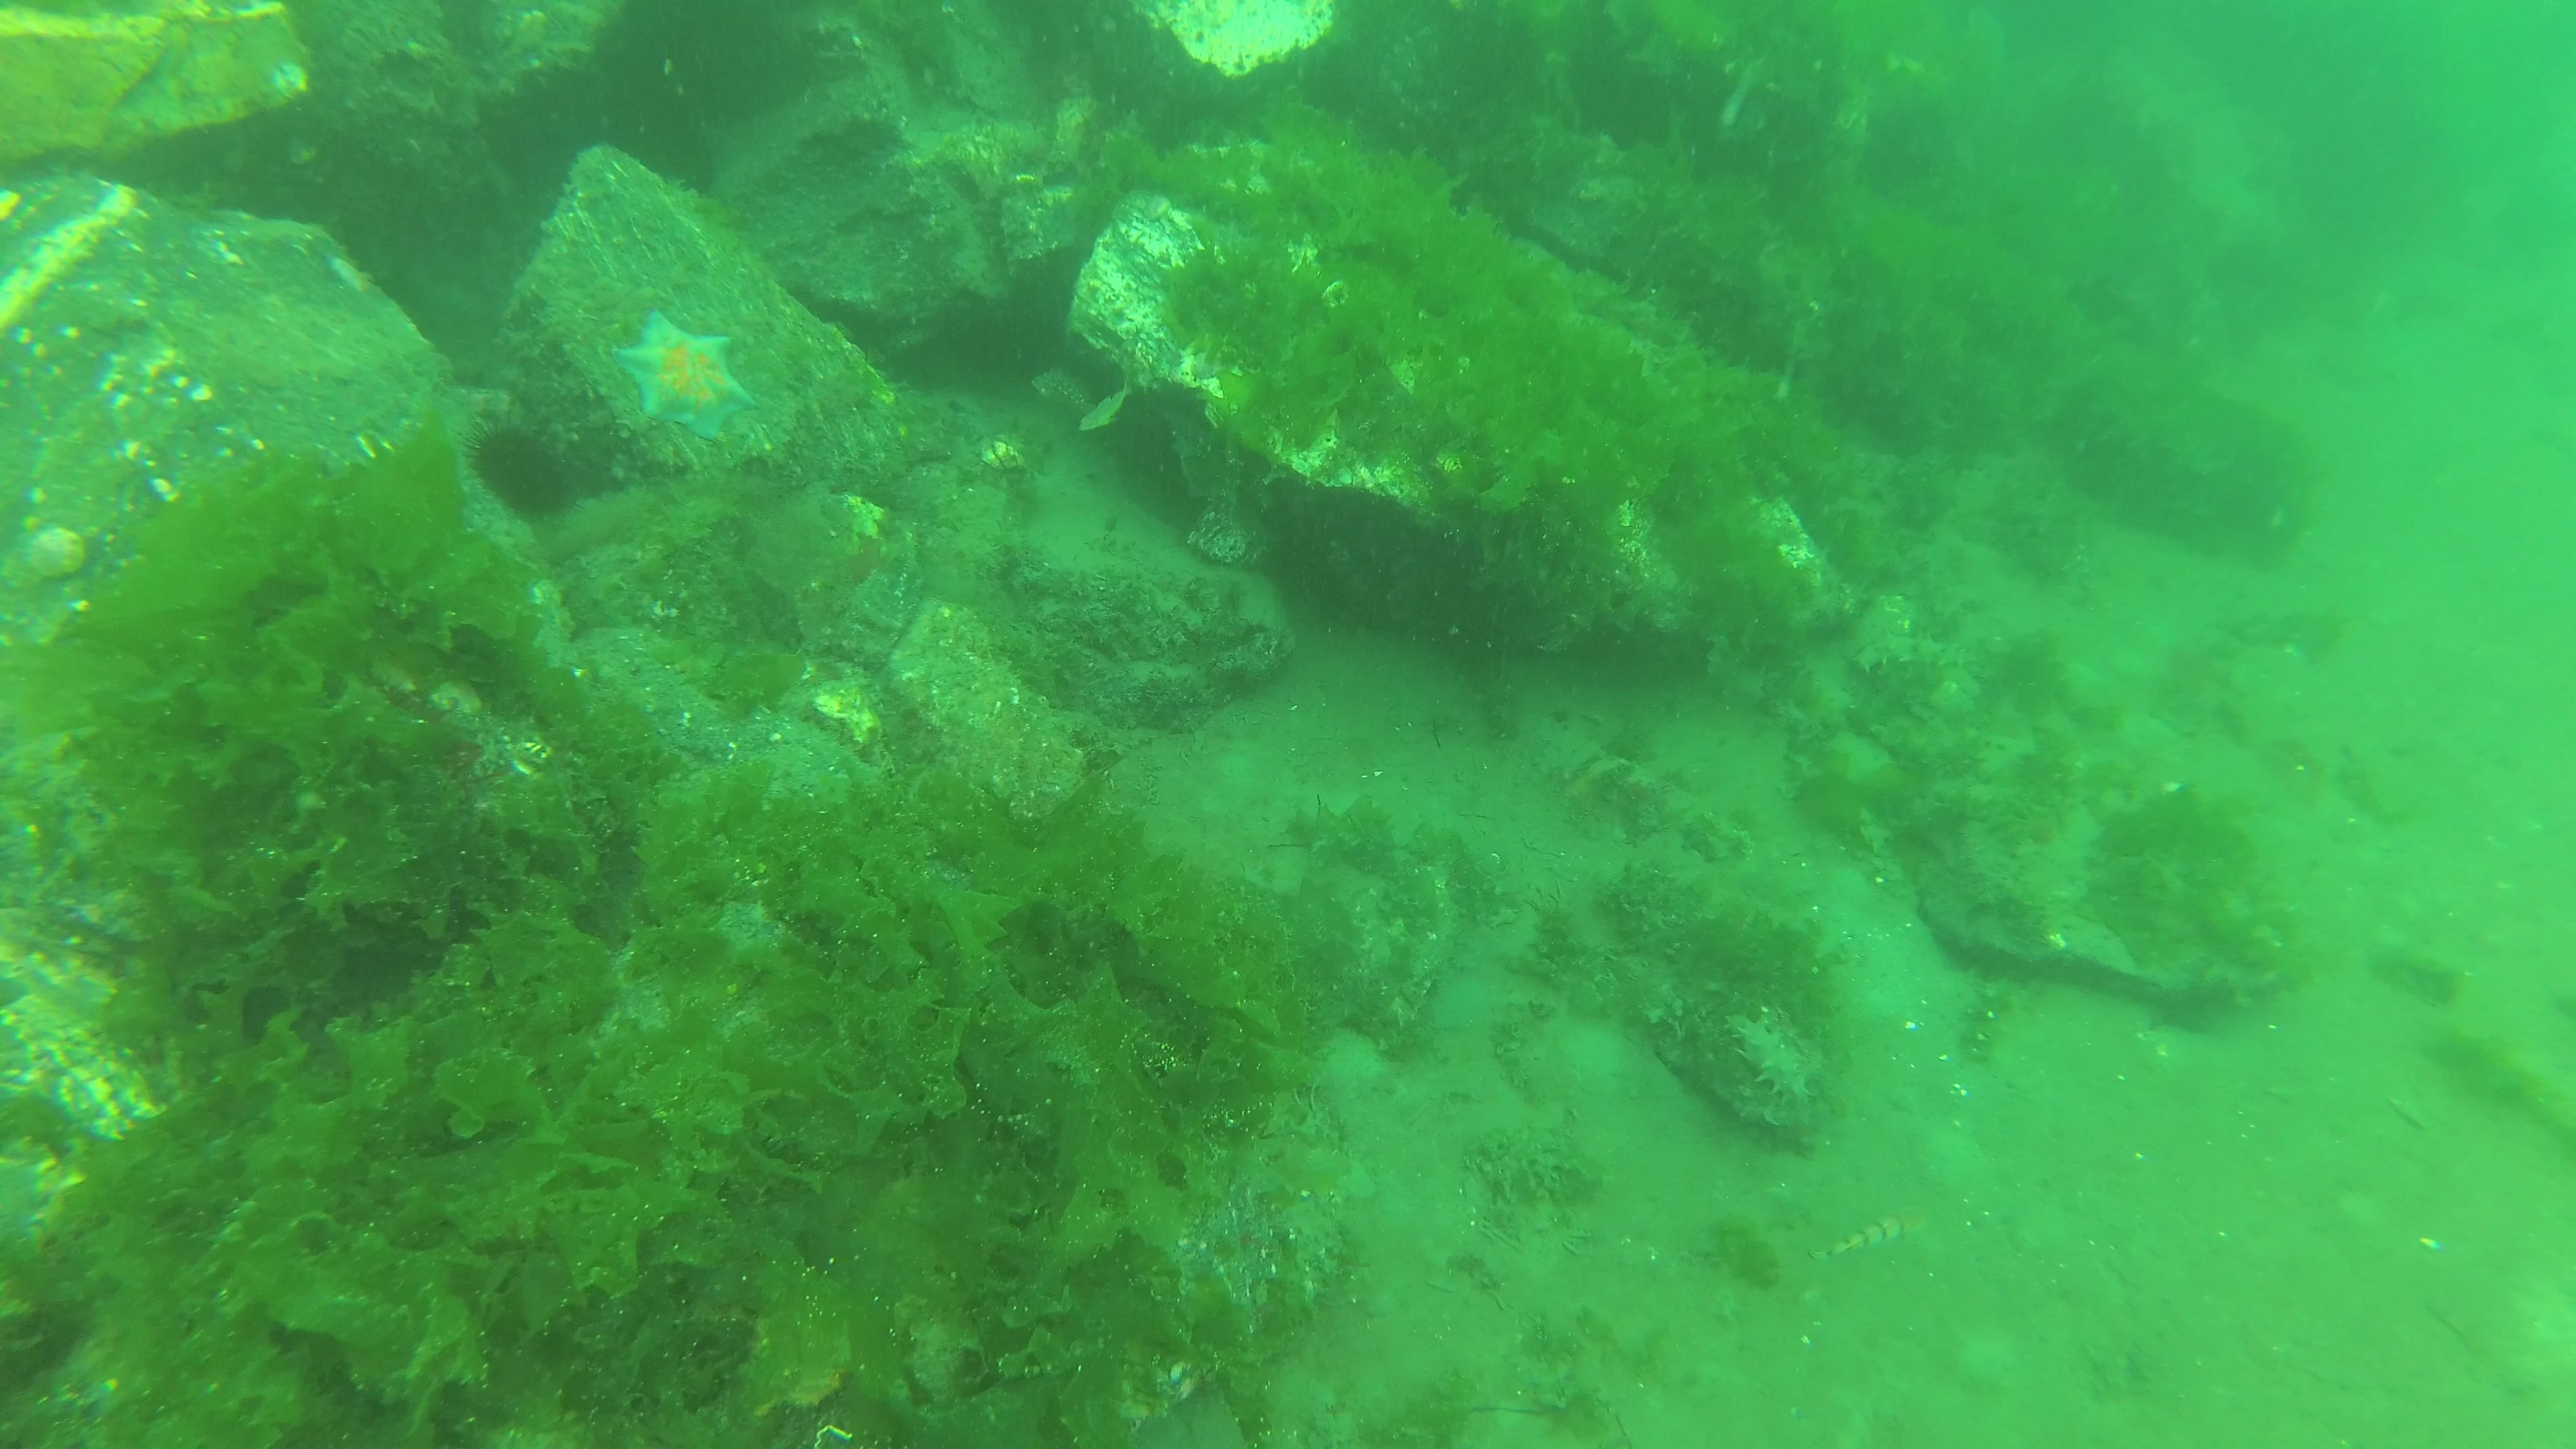echinus: (458, 410, 577, 527)
holothurian: (1709, 1001, 1821, 1116)
starfish: (605, 306, 757, 439)
